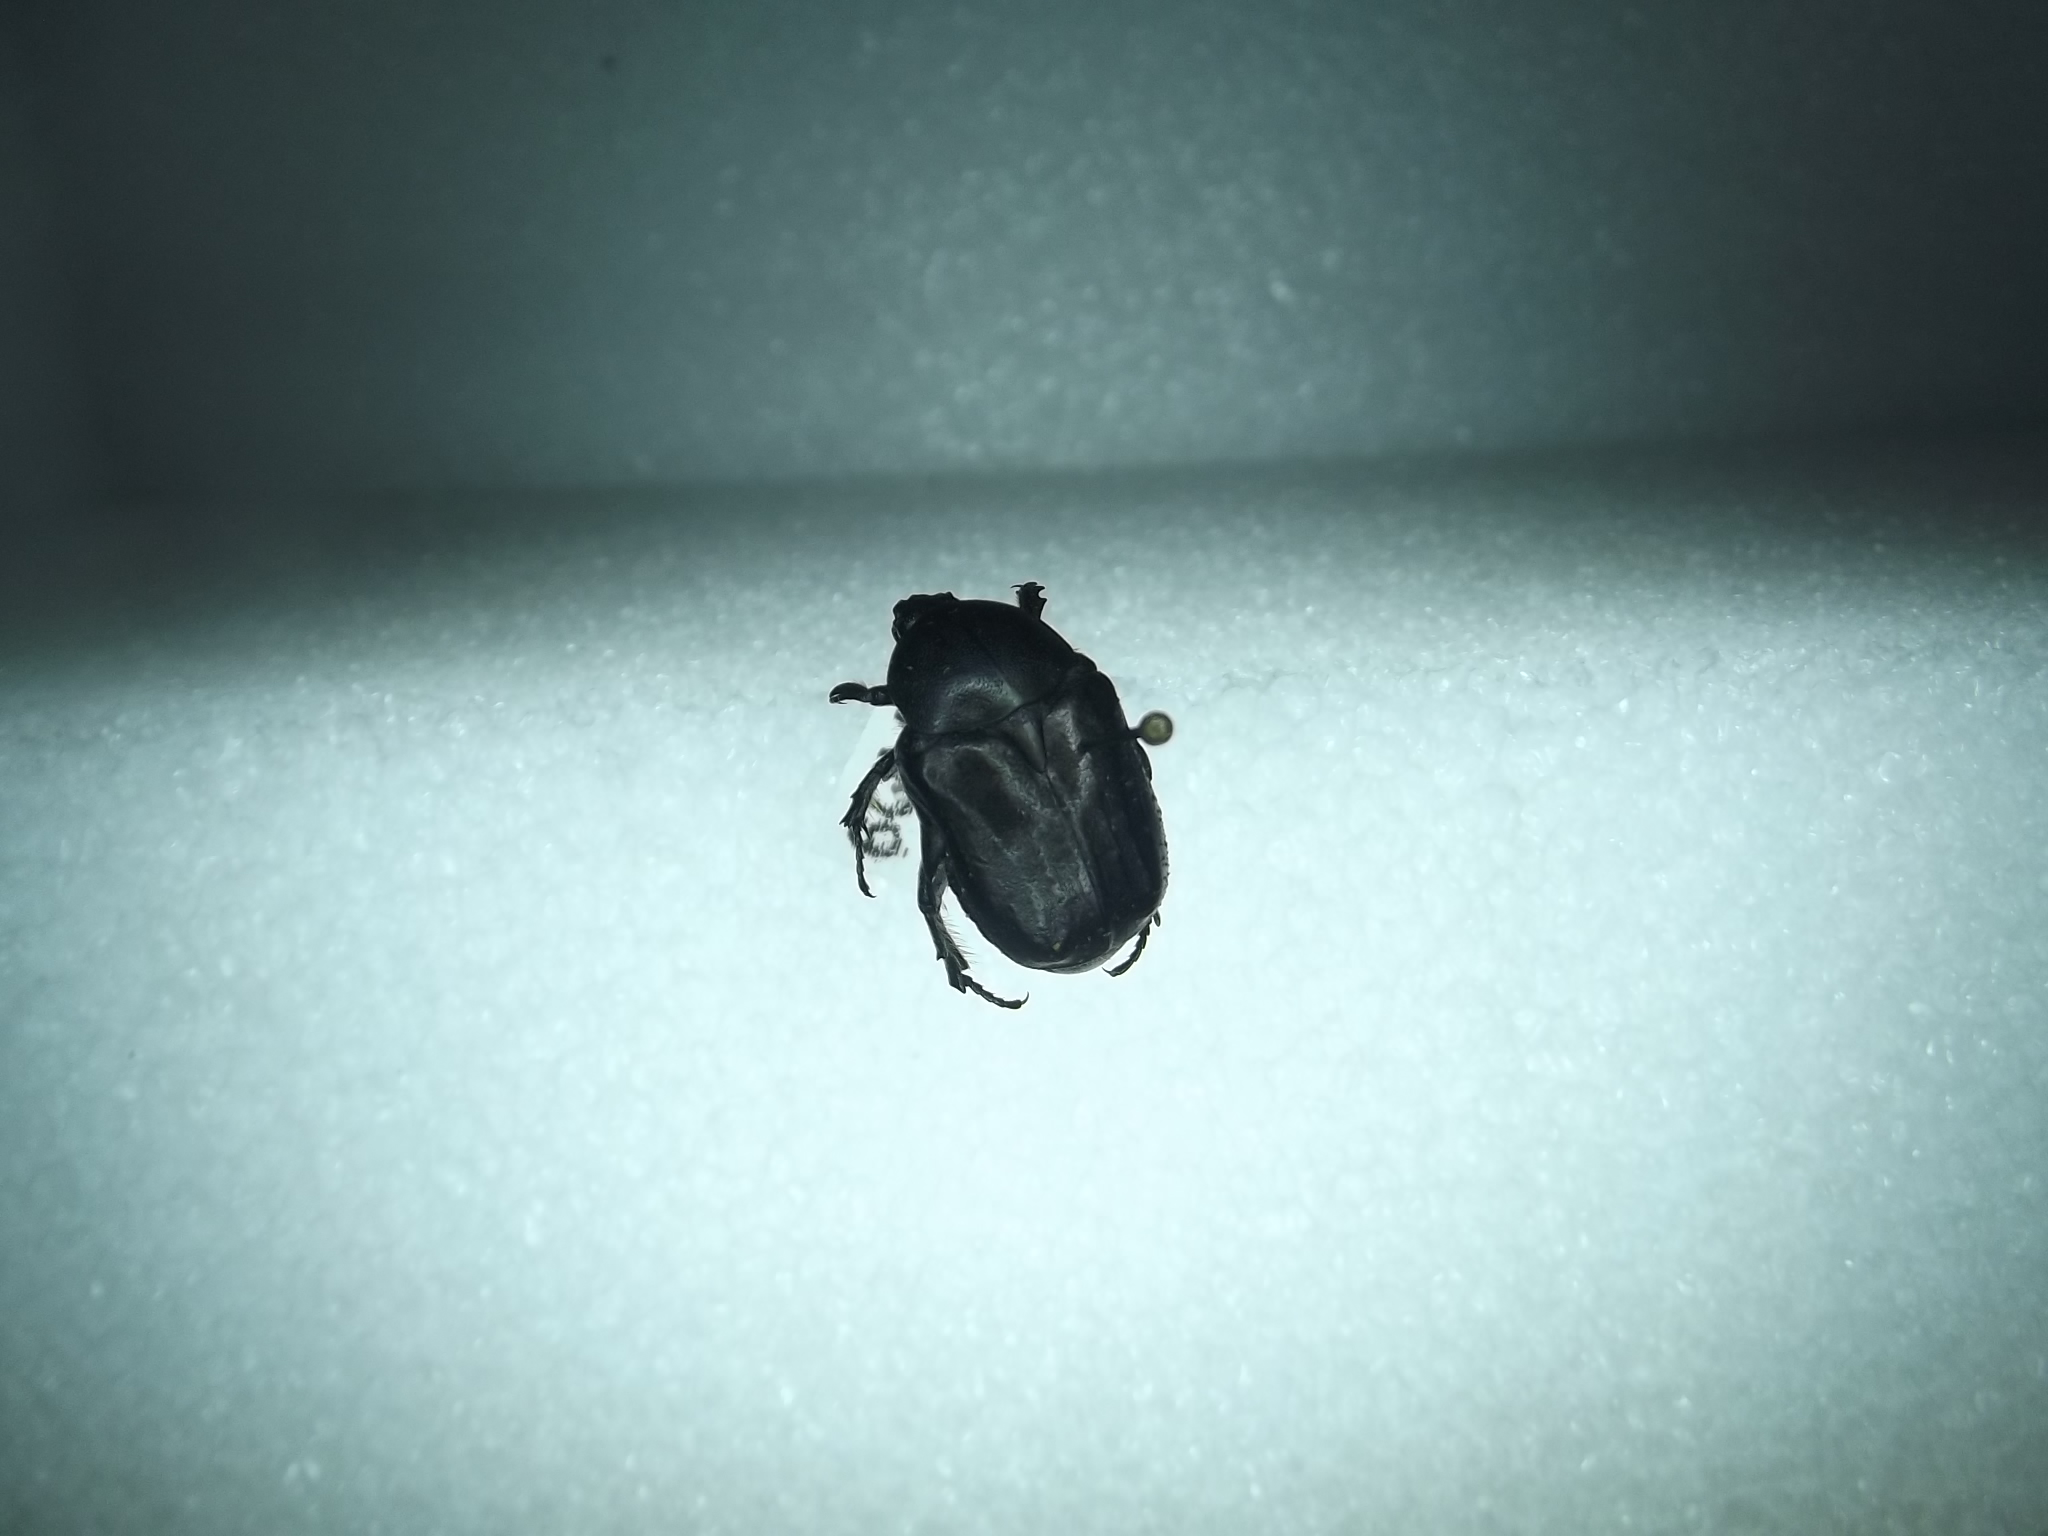Protaetia_vidua: (818, 574, 1185, 1010)
